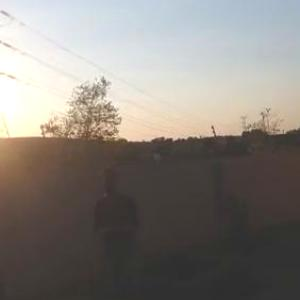follow: (89, 162, 148, 299)
